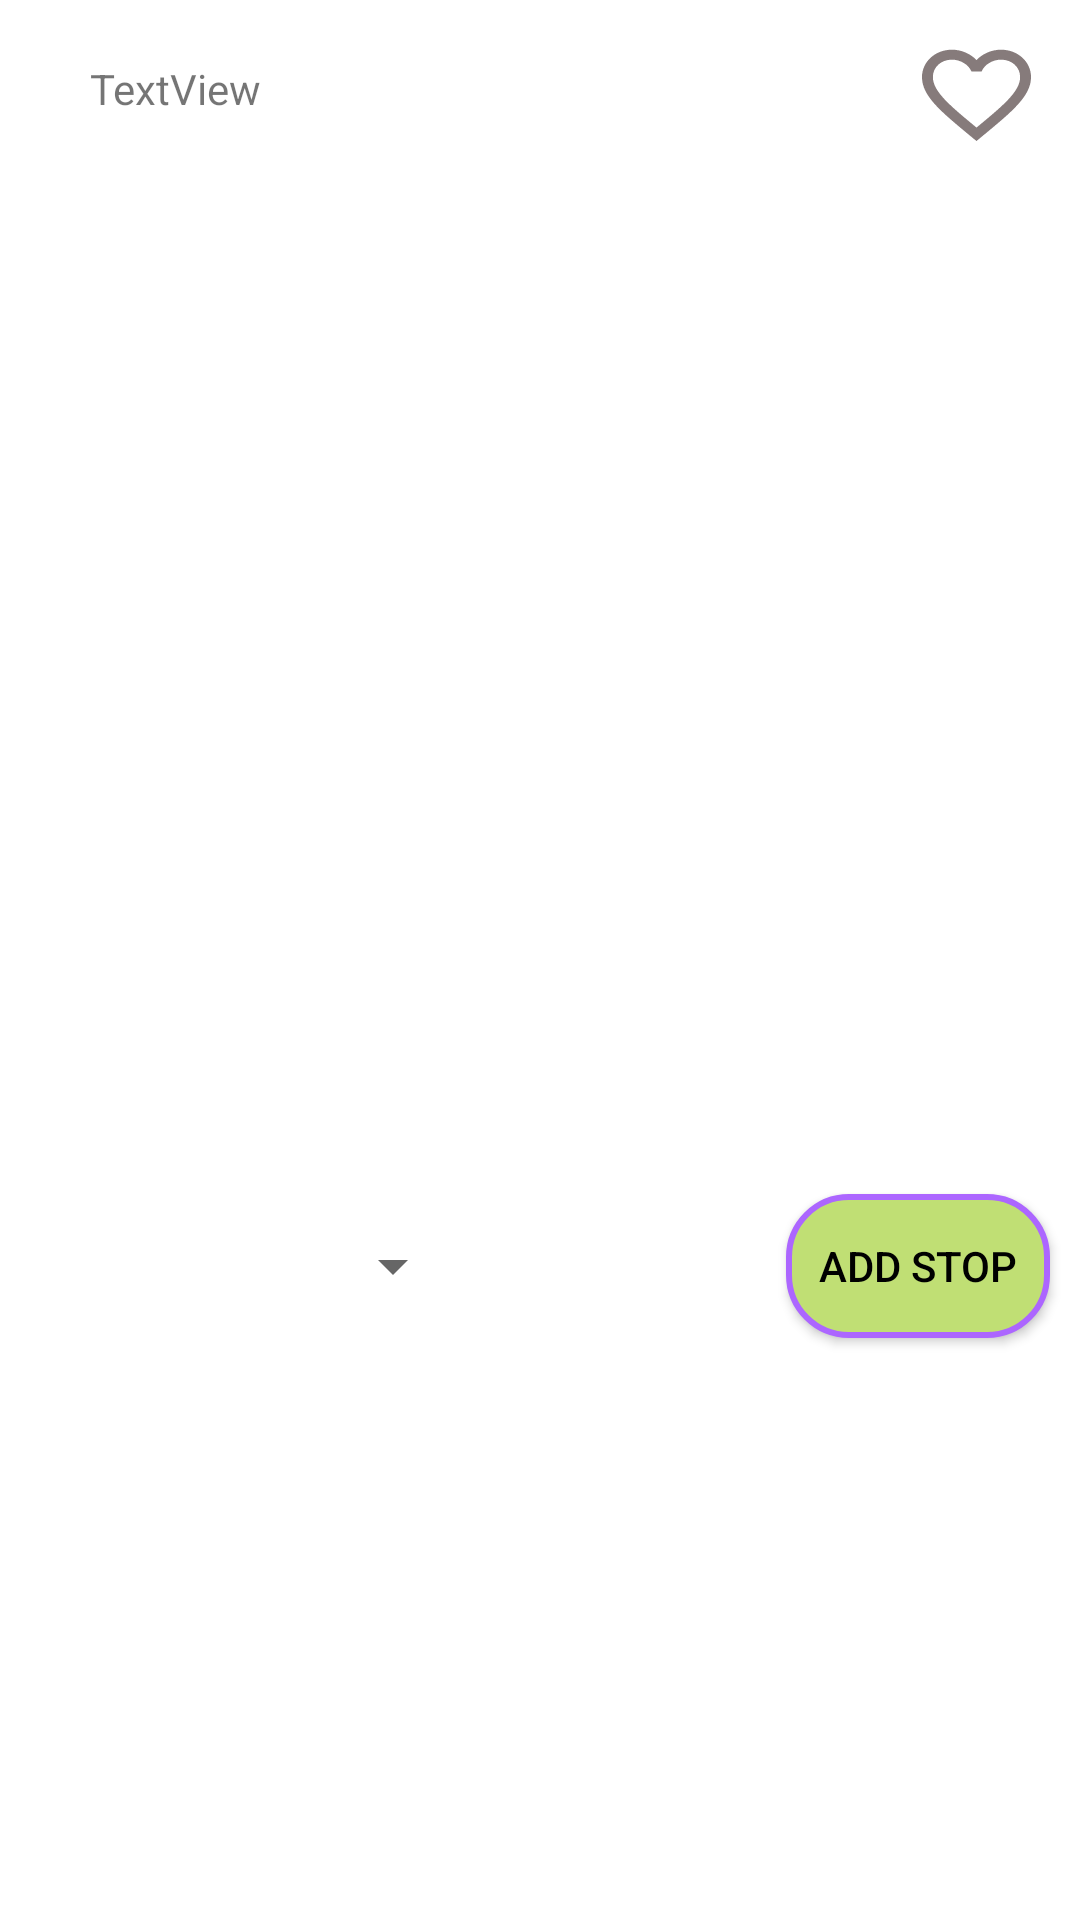

Where icons sit on this 1080px×1920px app screen, as box=[x1, y1, x2, y2]:
heart no: box=[922, 49, 1031, 141]
